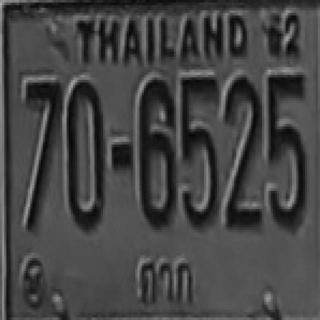N00: (66, 77, 103, 227)
N05: (266, 72, 305, 160)
N06: (138, 77, 174, 227)
N07: (25, 80, 61, 186)
P69: (128, 250, 202, 311)
